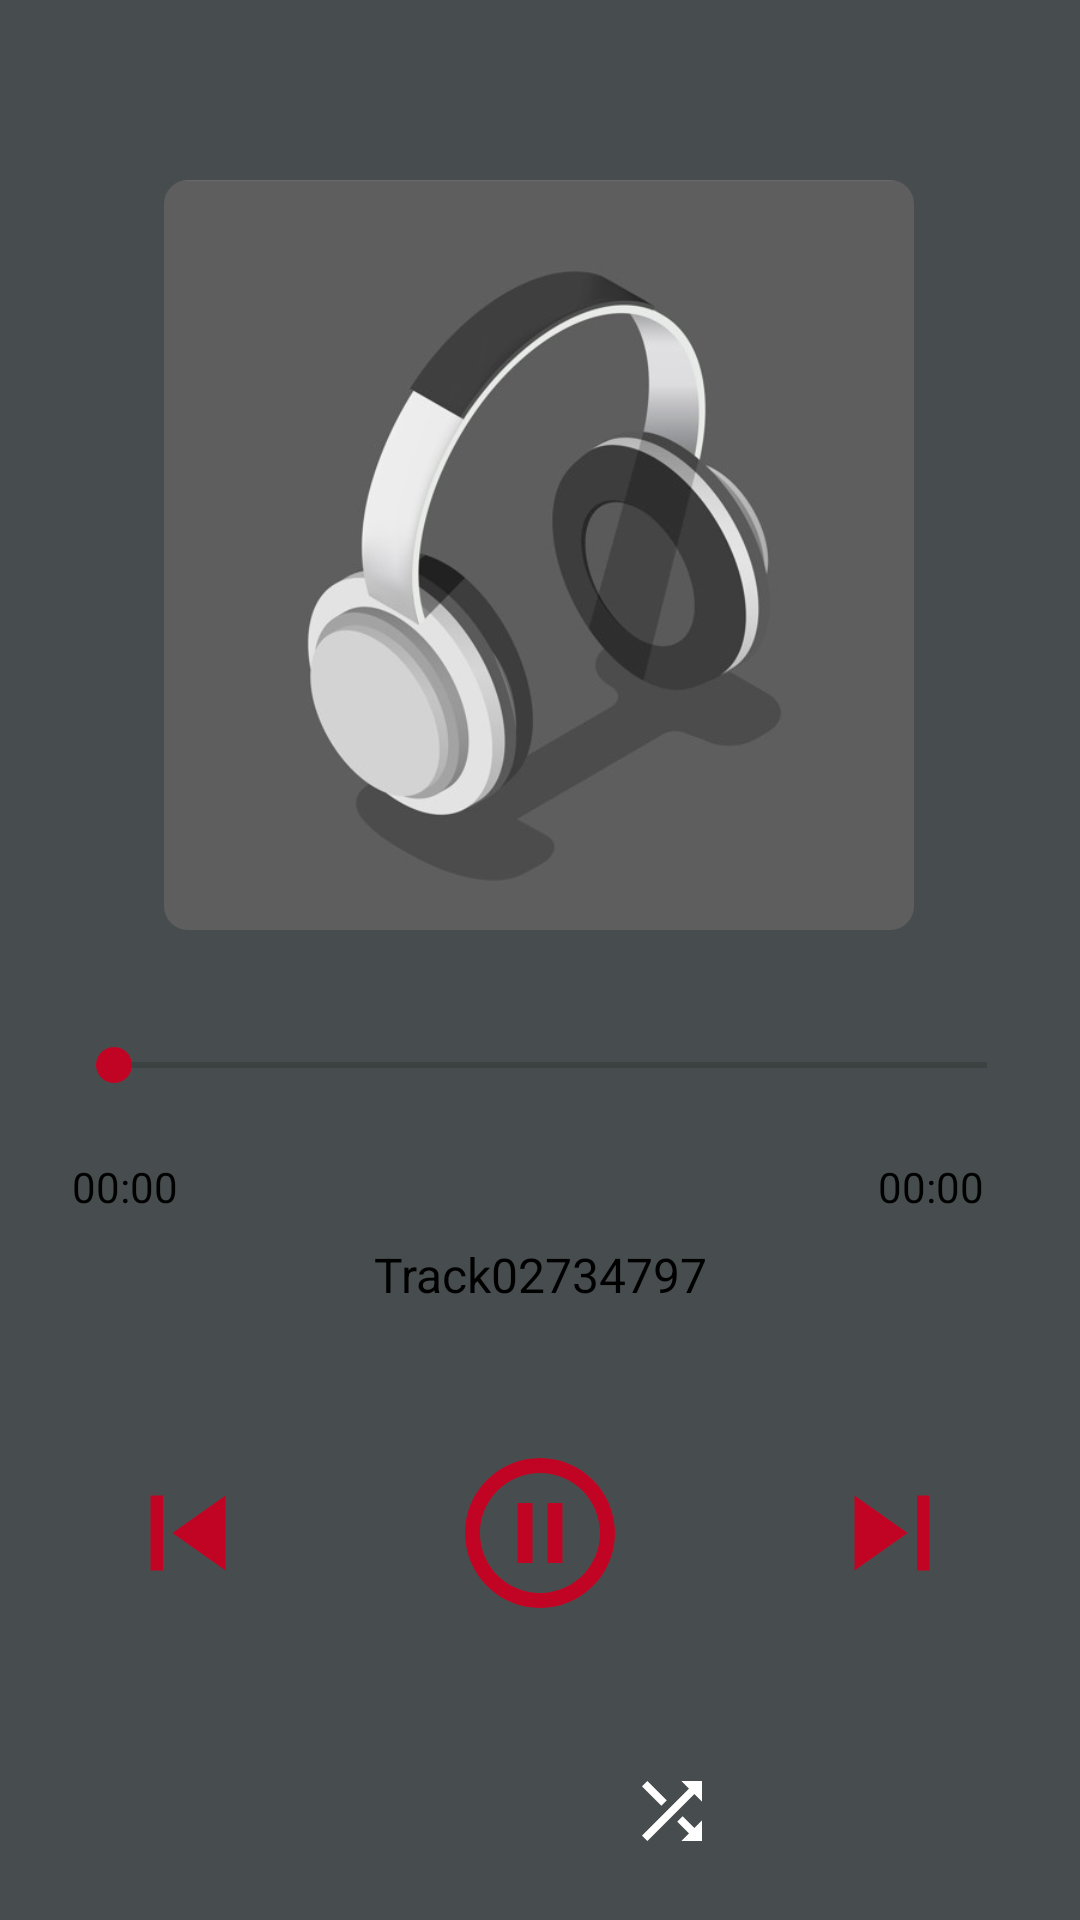

Where icons sit on this 1080*1920 app screen, as (x1, y1, x2, y2):
next: (854, 1495, 930, 1571)
pause: (465, 1458, 615, 1608)
previous: (150, 1495, 226, 1571)
shuffle: (642, 1781, 702, 1841)
